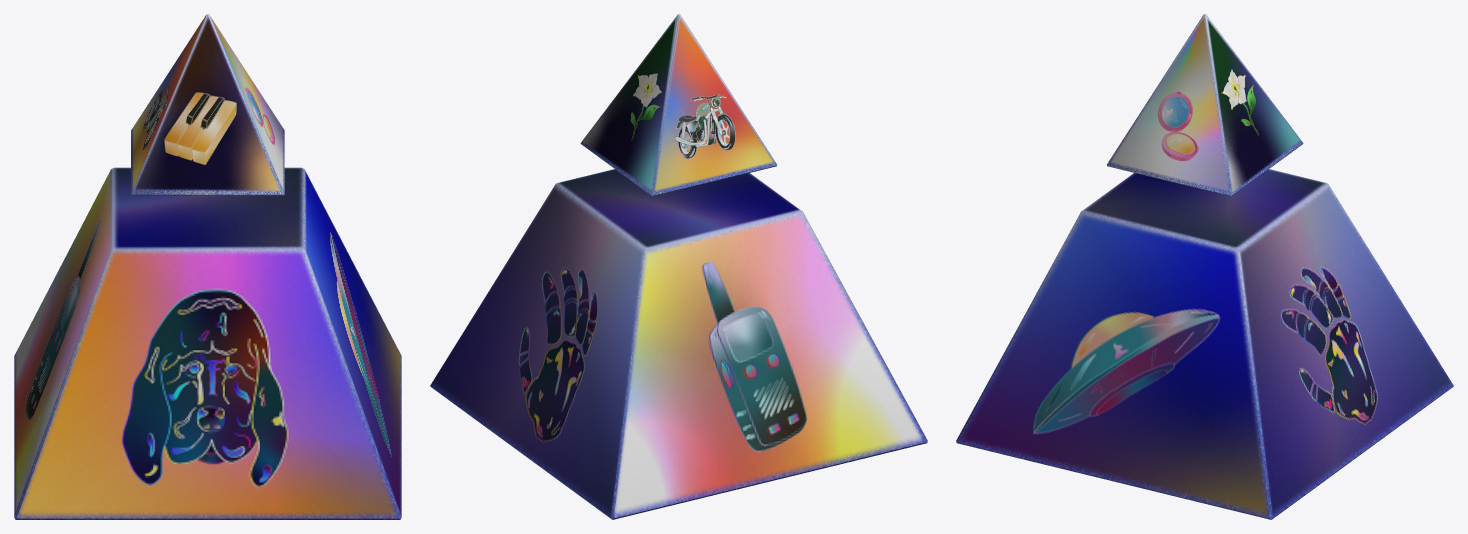
The model's file is focus_daft-punk_pyramid.gltf.
3 views of the same model, side by side, from view 1: azimuth 30°, elevation 25°; view 2: azimuth 150°, elevation 25°; view 3: azimuth 270°, elevation 25° (orthographic). The views are drawn at different scales.
Visible parts, largest first — view 1: Pyramid.bas.2, Pyramid; view 2: Pyramid.bas.2, Pyramid; view 3: Pyramid.bas.2, Pyramid.
Boxes of the visible parts, x1,y1,x2,y2 form: Pyramid.bas.2: (14,167,401,519); Pyramid: (131,14,284,195); Pyramid.bas.2: (430,169,927,519); Pyramid: (580,14,777,196); Pyramid.bas.2: (956,169,1453,519); Pyramid: (1107,14,1303,196).
Bounding box in the file's own units: 36.21 × 32.15 × 36.21.
2 materials, 2 textured.
